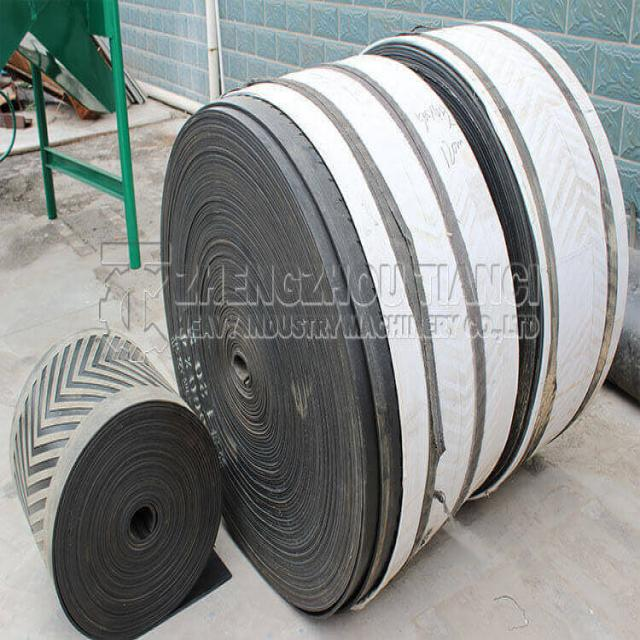convoyeur: (161, 16, 637, 629), (10, 329, 224, 640)
